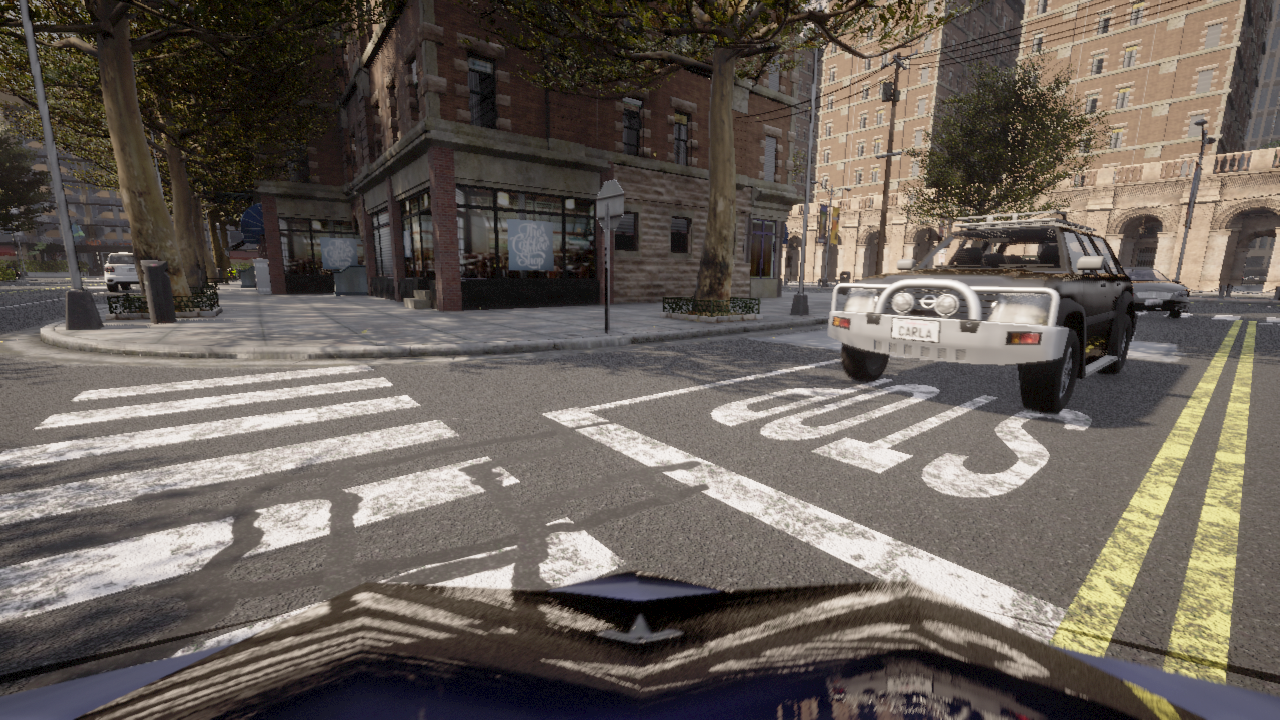cyclist: (0, 569, 1279, 719), (827, 210, 1137, 413), (1123, 268, 1190, 317), (104, 253, 138, 292), (1242, 276, 1266, 283), (227, 269, 239, 279), (227, 268, 234, 276), (15, 271, 20, 279)
